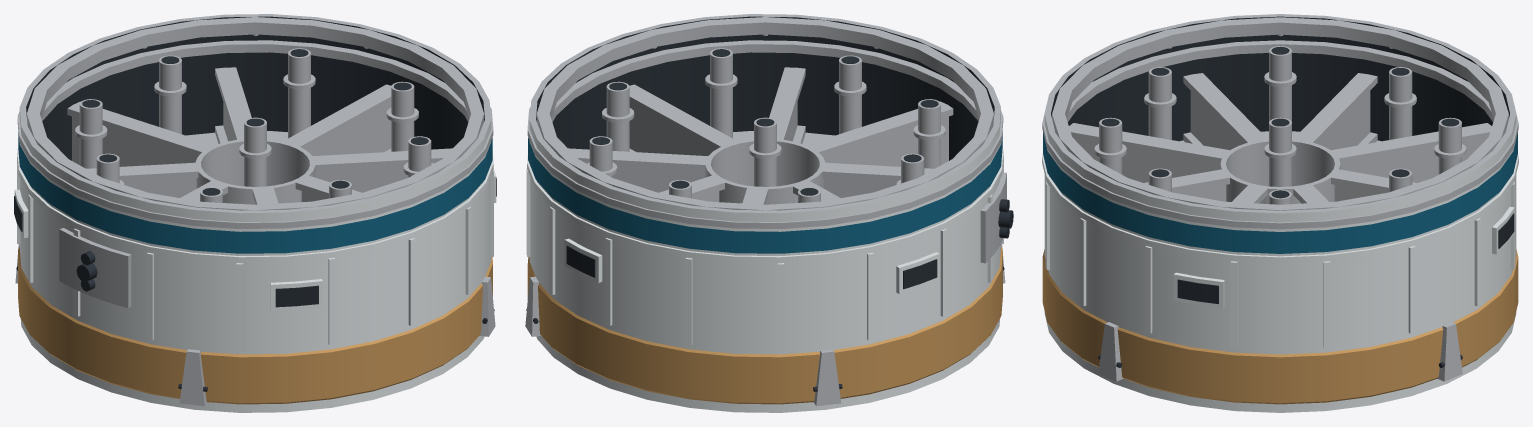
Rendered from mount_s1_9_d15.fbx.
3 views of the same model, side by side, from view 1: azimuth 30°, elevation 25°; view 2: azimuth 150°, elevation 25°; view 3: azimuth 270°, elevation 25° (orthographic).
Visible parts, largest first — view 1: mount_s1_9_d15_LOD0; view 2: mount_s1_9_d15_LOD0; view 3: mount_s1_9_d15_LOD0.
Part boxes in pixels (bbox=[...]): mount_s1_9_d15_LOD0: bbox=[14, 14, 496, 412]; mount_s1_9_d15_LOD0: bbox=[525, 14, 1013, 412]; mount_s1_9_d15_LOD0: bbox=[1042, 14, 1518, 412].
Size of what is drawn, in the model's own units: 1.53 by 0.7 by 1.52.
